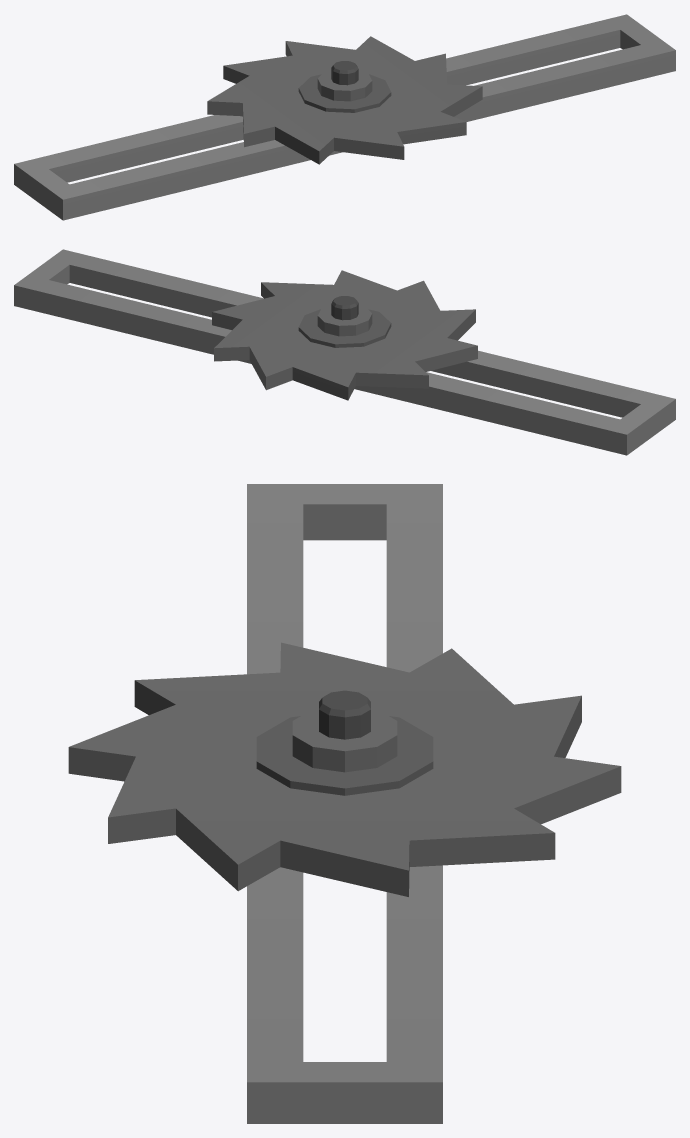
The model's file is Mini_Loop_Trap_4.fbx.
3 views of the same model, one above another, from view 1: azimuth 30°, elevation 25°; view 2: azimuth 150°, elevation 25°; view 3: azimuth 270°, elevation 25° (orthographic). The views are drawn at different scales.
Parts seen in each view (by area): view 1: Mini_Loop_Trap_4, Mini_Loop_Trap_4_Saw; view 2: Mini_Loop_Trap_4, Mini_Loop_Trap_4_Saw; view 3: Mini_Loop_Trap_4_Saw, Mini_Loop_Trap_4.
Boxes of the visible parts, bbox=[...] form: Mini_Loop_Trap_4: bbox=[14, 14, 675, 220]; Mini_Loop_Trap_4_Saw: bbox=[207, 36, 482, 164]; Mini_Loop_Trap_4: bbox=[14, 249, 675, 455]; Mini_Loop_Trap_4_Saw: bbox=[212, 270, 477, 400]; Mini_Loop_Trap_4_Saw: bbox=[68, 642, 621, 896]; Mini_Loop_Trap_4: bbox=[247, 484, 442, 1123].
Bounding box in the file's own units: 391 × 37.84 × 153.
Materials: 1 (1 with a texture image).
